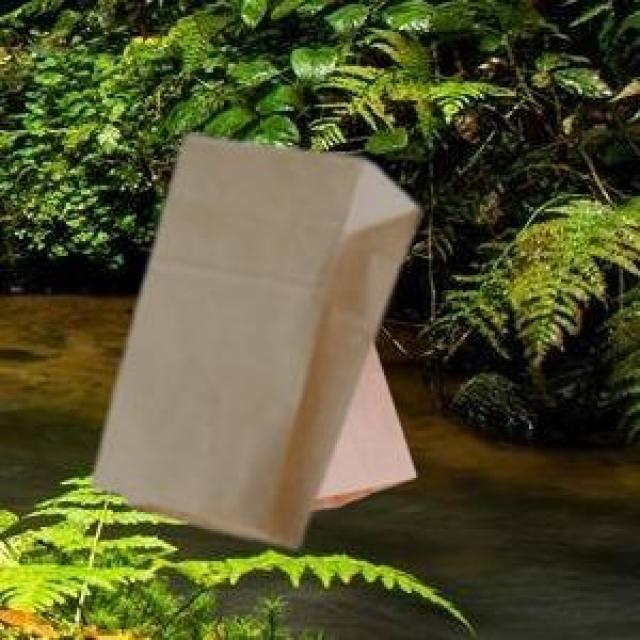paper: (88, 130, 416, 544), (307, 337, 412, 506)
